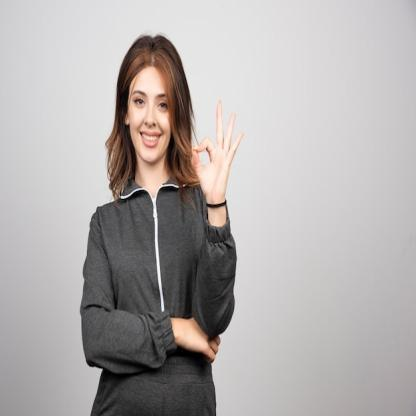ok: (191, 98, 246, 212)
